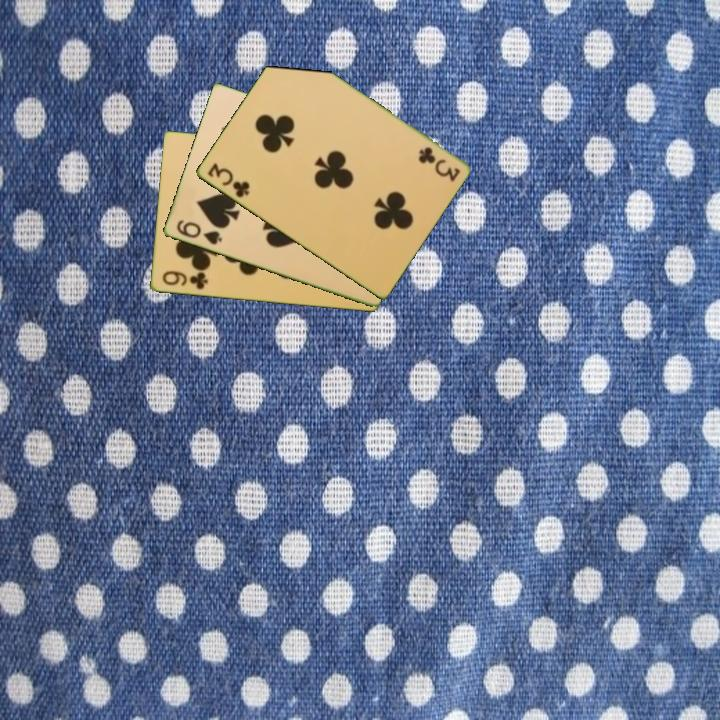3c: (203, 159, 252, 201), (414, 143, 463, 184)
6s: (172, 216, 225, 248)
9c: (159, 267, 210, 293)
